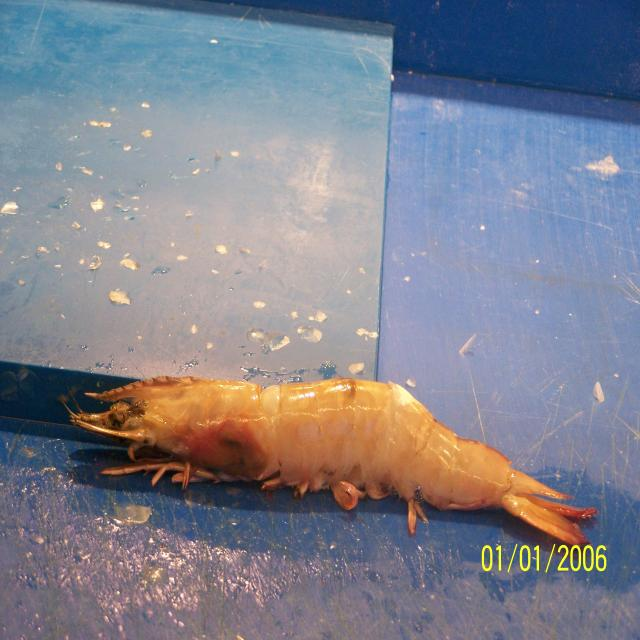Shrimp-karides-: (58, 377, 596, 548)
